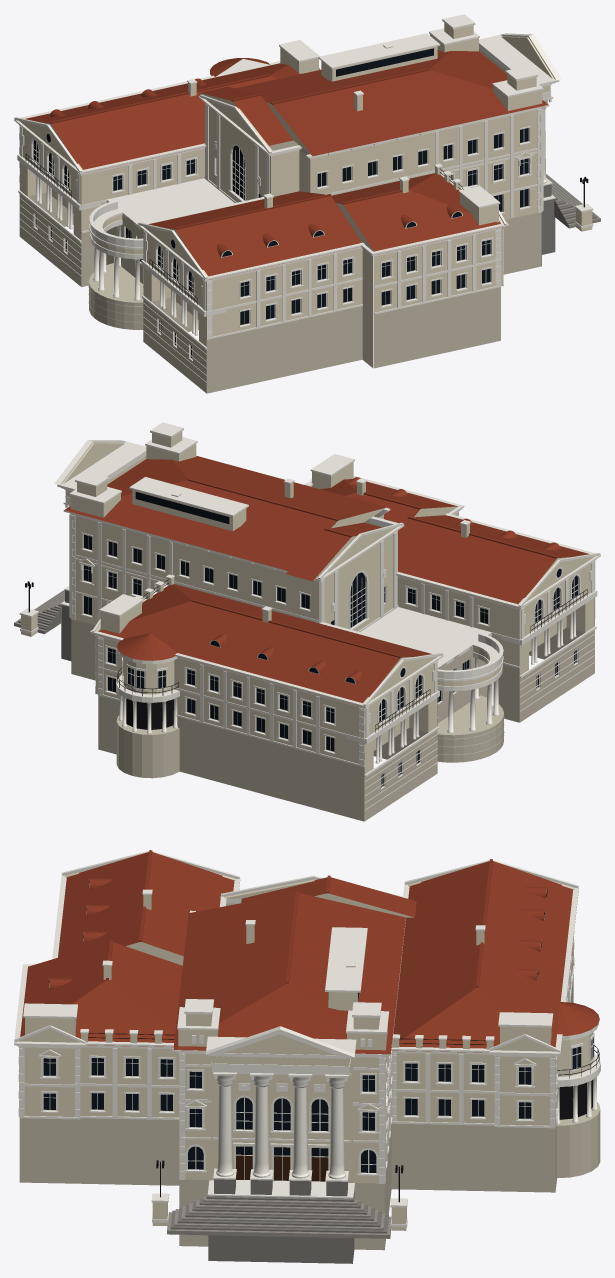
Rendered from ddut.glb.
The picture shows the model from 3 angles, top to bottom: view 1: azimuth 30°, elevation 25°; view 2: azimuth 150°, elevation 25°; view 3: azimuth 270°, elevation 25°; orthographic projection. The views are drawn at different scales.
Parts seen in each view (by area): view 1: ddut_roof, ddut_trim, ddut_wall, ddut_wall2, ddut_glass, ddut_stone, ddut_wall3, ddut_metal; view 2: ddut_roof, ddut_trim, ddut_wall, ddut_wall2, ddut_glass, ddut_metal, ddut_stone, ddut_wall3; view 3: ddut_roof, ddut_trim, ddut_wall, ddut_wall2, ddut_stone, ddut_glass, ddut_wall3, ddut_trim_s, ddut_metal, ddut_wood.
Part boxes in pixels (bbox=[...]): ddut_roof: bbox=[25, 50, 548, 279]; ddut_trim: bbox=[14, 14, 593, 382]; ddut_wall: bbox=[19, 23, 592, 367]; ddut_wall2: bbox=[19, 140, 541, 393]; ddut_glass: bbox=[33, 48, 528, 358]; ddut_stone: bbox=[542, 175, 596, 254]; ddut_wall3: bbox=[546, 174, 600, 228]; ddut_metal: bbox=[25, 154, 588, 305]; ddut_roof: bbox=[64, 456, 589, 705]; ddut_trim: bbox=[19, 422, 600, 810]; ddut_wall: bbox=[21, 431, 594, 774]; ddut_wall2: bbox=[71, 618, 594, 821]; ddut_glass: bbox=[84, 492, 577, 787]; ddut_metal: bbox=[25, 579, 587, 732]; ddut_stone: bbox=[18, 590, 71, 660]; ddut_wall3: bbox=[14, 590, 64, 634]; ddut_roof: bbox=[20, 850, 599, 1054]; ddut_trim: bbox=[14, 851, 600, 1227]; ddut_wall: bbox=[18, 870, 592, 1230]; ddut_wall2: bbox=[19, 975, 600, 1250]; ddut_stone: bbox=[170, 1179, 388, 1263]; ddut_glass: bbox=[43, 880, 593, 1172]; ddut_wall3: bbox=[167, 1197, 391, 1238]; ddut_trim_s: bbox=[216, 1085, 345, 1179]; ddut_metal: bbox=[88, 1033, 599, 1202]; ddut_wood: bbox=[236, 1155, 328, 1181].
Bounding box in the file's own units: 60.52 × 24.9 × 55.97.
